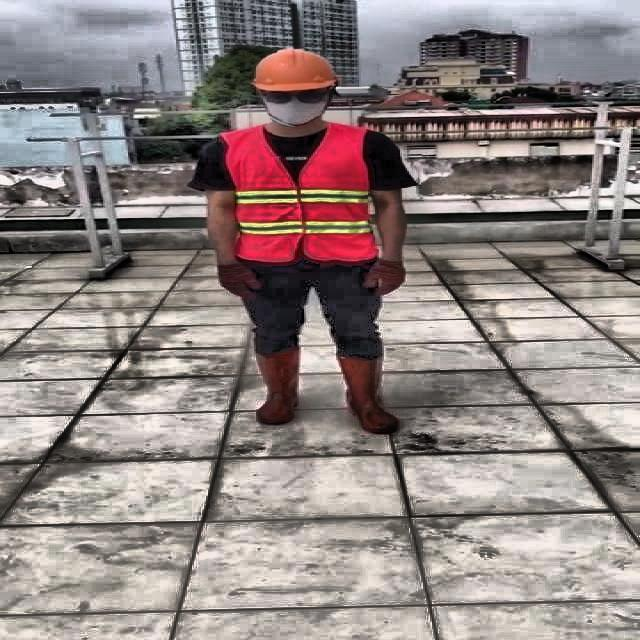safety_helmet: (249, 44, 337, 96)
safety_jacket: (224, 124, 377, 262)
